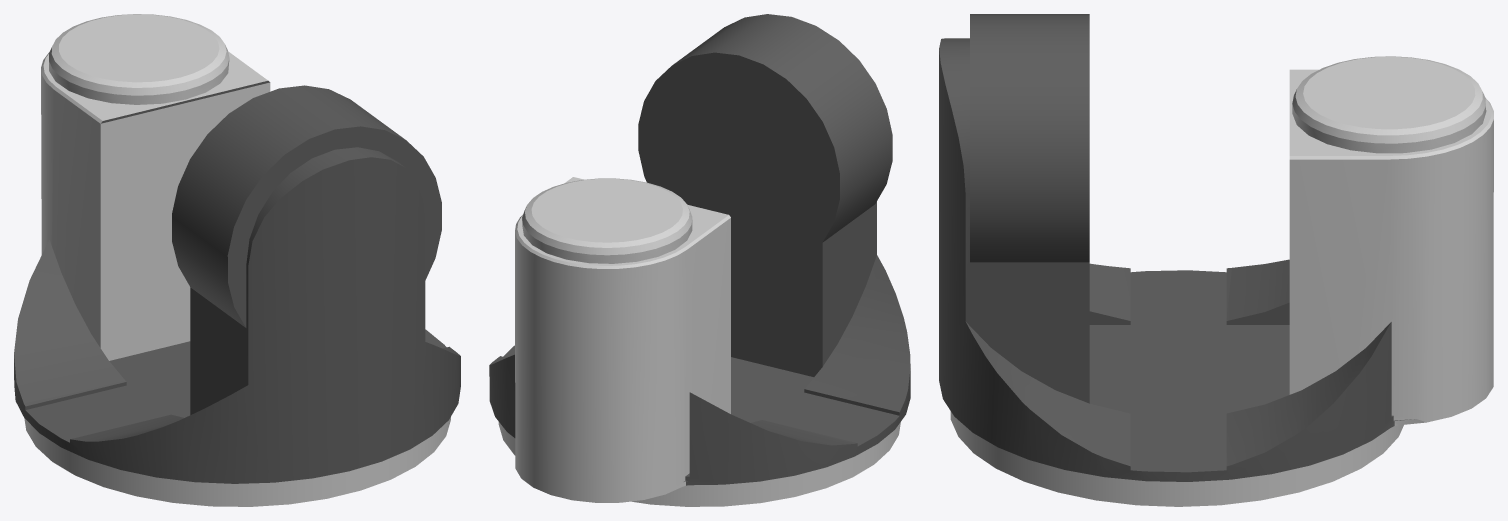
Rendered from wam6.dae.
3 renders of one model, left to right at view 1: azimuth 30°, elevation 25°; view 2: azimuth 150°, elevation 25°; view 3: azimuth 270°, elevation 25°, orthographic. The views are drawn at different scales.
Parts seen in each view (by area): view 1: wamUpperWristPitchLink6; view 2: wamUpperWristPitchLink6; view 3: wamUpperWristPitchLink6.
Part boxes in pixels (box(x1,y1,x2,y2)): wamUpperWristPitchLink6: box(14, 14, 460, 506); wamUpperWristPitchLink6: box(489, 14, 910, 506); wamUpperWristPitchLink6: box(939, 14, 1493, 506).
Size of the model in its own units: 0.0888 by 0.0787 by 0.1031.
1 material, 1 textured.
